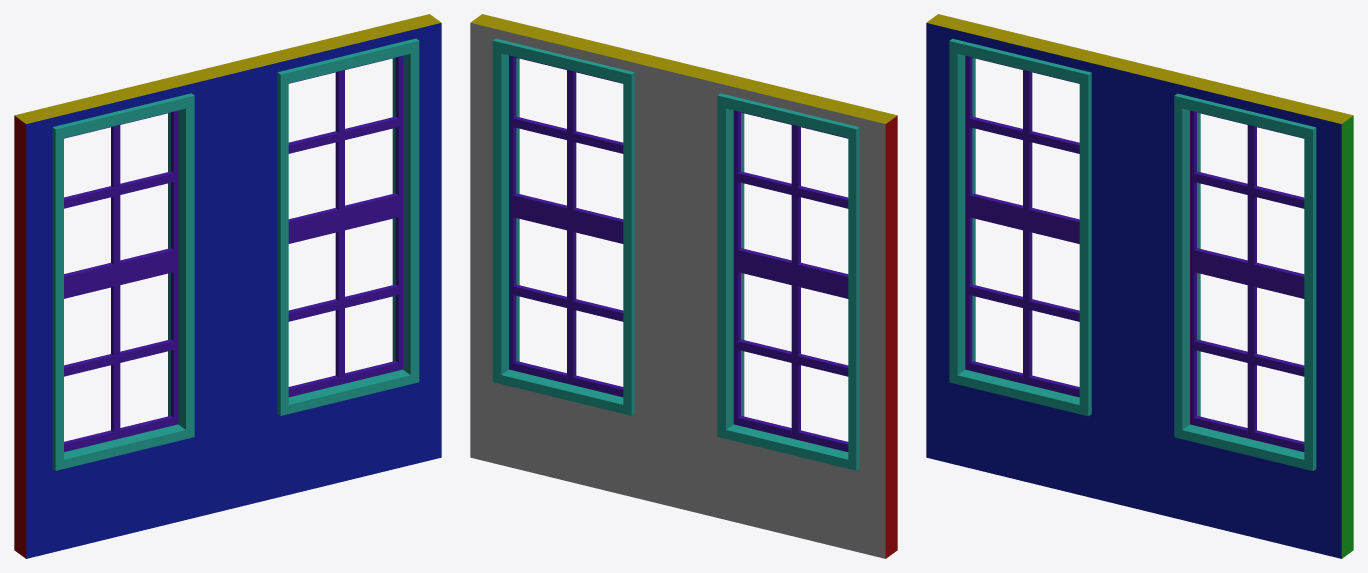
The model's file is Wall_Window_07c.fbx.
3 views of the same model, side by side, from view 1: azimuth 30°, elevation 25°; view 2: azimuth 150°, elevation 25°; view 3: azimuth 330°, elevation 25° (orthographic).
Parts seen in each view (by area): view 1: Wall_Window_07c; view 2: Wall_Window_07c; view 3: Wall_Window_07c.
Part boxes in pixels (left/top/right/bottom): Wall_Window_07c: left=14, top=14, right=441, bottom=558; Wall_Window_07c: left=470, top=14, right=897, bottom=558; Wall_Window_07c: left=926, top=14, right=1353, bottom=558.
Size of the model in its own units: 3 by 0.2274 by 3.
